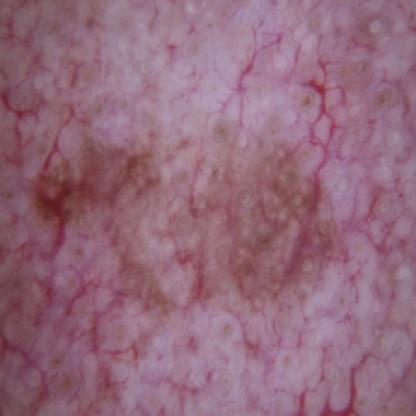Skin_Cancer-Malignant: (27, 119, 352, 315)
